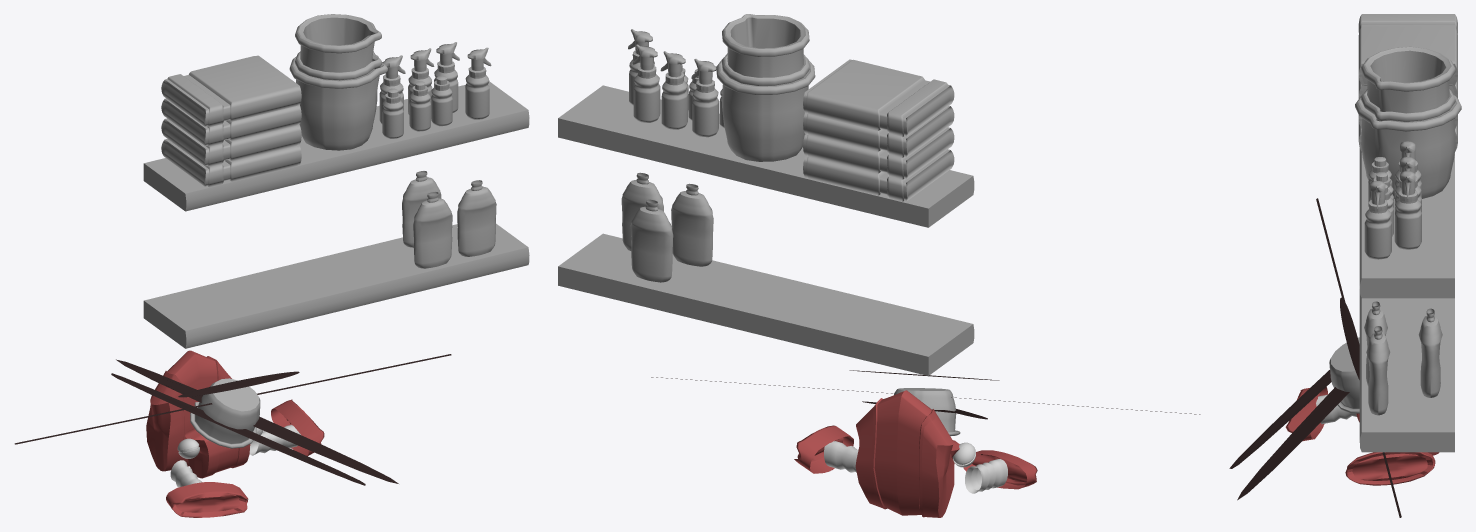
Rendered from ClosetSizeTestt.fbx.
The picture shows the model from 3 angles, left to right: view 1: azimuth 30°, elevation 25°; view 2: azimuth 150°, elevation 25°; view 3: azimuth 270°, elevation 25°; orthographic projection. The views are drawn at different scales.
Parts seen in each view (by area): view 1: Shelf1, Shelf, Battle (×4), pCube4, Bucket, Hips3, Bucket3, Bucket4, pCube1, pCube2, pCube3, Chest1 (+10 smaller); view 2: Shelf1, Shelf, Battle (×6), Hips3, pCube4, Bucket, Bucket3, pCube1, pCube2, pCube3, Chest, Chest1 (+4 smaller); view 3: Shelf1, Shelf, Battle (×5), Bucket, Bucket3, pCube4, Chest, Eyes, Bucket4, Eyes1, Bucket2, AntinaBall (+4 smaller).
Boxes of the visible parts, x1,y1,x2,y2 form: Shelf1: (143,223,529,348); Shelf: (143,81,529,211); Battle (×4): (402,67,496,268); pCube4: (161,55,301,127); Bucket: (289,55,387,150); Hips3: (146,350,231,471); Bucket3: (295,14,381,80); Bucket4: (190,378,260,448); pCube1: (161,139,301,187); pCube2: (161,118,301,166); pCube3: (161,98,301,146); Chest1: (166,482,248,517); Shelf1: (558,233,974,375); Shelf: (558,85,974,227); Battle (×6): (621,66,718,282); Hips3: (855,390,954,517); pCube4: (803,59,954,136); Bucket: (716,57,815,161); Bucket3: (722,14,809,85); pCube1: (803,149,954,201); pCube2: (803,127,954,179); pCube3: (803,105,954,157); Chest: (794,425,853,473); Chest1: (963,450,1037,489); Shelf1: (1359,289,1454,452); Shelf: (1359,148,1454,298); Battle (×5): (1364,190,1442,415); Bucket: (1355,94,1461,198); Bucket3: (1361,46,1455,121); pCube4: (1358,14,1457,85); Chest: (1345,452,1435,485); Eyes: (1237,387,1349,500); Bucket4: (1329,337,1359,413); Eyes1: (1229,370,1331,468); Bucket2: (1361,89,1455,121); AntinaBall: (1340,297,1359,379).
Bounding box in the file's own units: 262 × 193 × 88.21.
